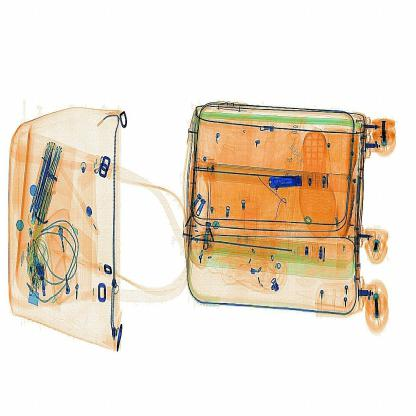knife: (263, 168, 311, 198)
